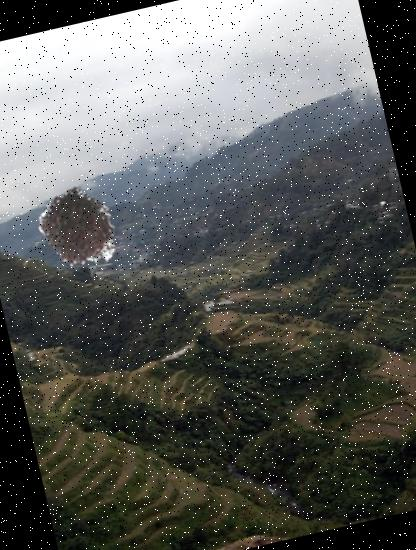Rambutan: (28, 179, 130, 280)
